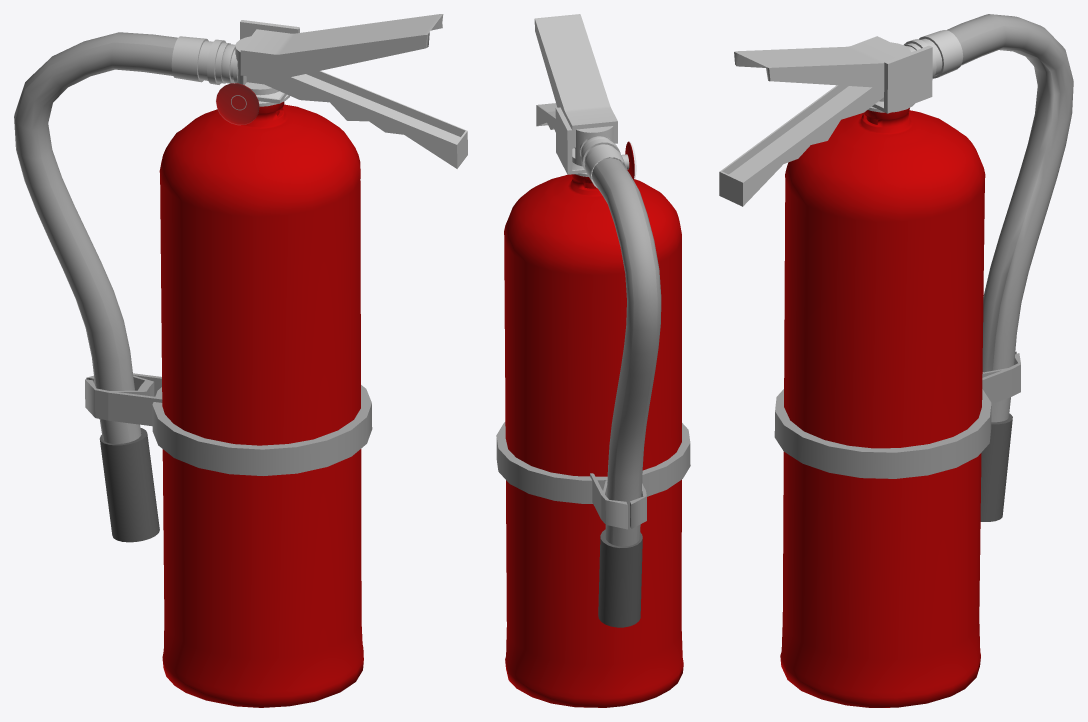
The model's file is Extinguisher.fbx.
The picture shows the model from 3 angles, left to right: view 1: azimuth 30°, elevation 25°; view 2: azimuth 150°, elevation 25°; view 3: azimuth 270°, elevation 25°; orthographic projection. The views are drawn at different scales.
Visible parts, largest first — view 1: body, hose, polySurface10, polySurface61, polySurface11, polySurface7, polySurface62, polySurface6, polySurface16, polySurface9; view 2: body, hose, polySurface10, polySurface61, polySurface7, polySurface62, polySurface6, polySurface9, polySurface8, polySurface11; view 3: body, hose, polySurface61, polySurface11, polySurface10, polySurface9, polySurface7, polySurface6, polySurface62.
Part boxes in pixels (x1=…): body: x1=159, y1=101, x2=363, y2=707; hose: x1=14, y1=32, x2=177, y2=443; polySurface10: x1=240, y1=14, x2=443, y2=79; polySurface61: x1=152, y1=385, x2=372, y2=475; polySurface11: x1=247, y1=71, x2=467, y2=168; polySurface7: x1=99, y1=428, x2=159, y2=542; polySurface62: x1=85, y1=373, x2=162, y2=426; polySurface6: x1=171, y1=36, x2=238, y2=84; polySurface16: x1=216, y1=83, x2=259, y2=124; polySurface9: x1=228, y1=20, x2=299, y2=103; body: x1=504, y1=174, x2=683, y2=707; hose: x1=592, y1=158, x2=661, y2=546; polySurface10: x1=534, y1=14, x2=617, y2=147; polySurface61: x1=496, y1=422, x2=690, y2=503; polySurface7: x1=598, y1=529, x2=642, y2=627; polySurface62: x1=590, y1=473, x2=646, y2=529; polySurface6: x1=579, y1=136, x2=627, y2=188; polySurface9: x1=555, y1=107, x2=593, y2=174; polySurface8: x1=572, y1=126, x2=613, y2=166; polySurface11: x1=536, y1=103, x2=575, y2=148; body: x1=780, y1=108, x2=985, y2=707; hose: x1=946, y1=14, x2=1073, y2=422; polySurface61: x1=774, y1=389, x2=991, y2=478; polySurface11: x1=719, y1=85, x2=884, y2=206; polySurface10: x1=734, y1=36, x2=910, y2=87; polySurface9: x1=872, y1=45, x2=932, y2=113; polySurface7: x1=980, y1=413, x2=1012, y2=521; polySurface6: x1=904, y1=30, x2=963, y2=78; polySurface62: x1=982, y1=351, x2=1020, y2=404.
Size of the model in its own units: 0.3208 by 0.7079 by 0.3366.
